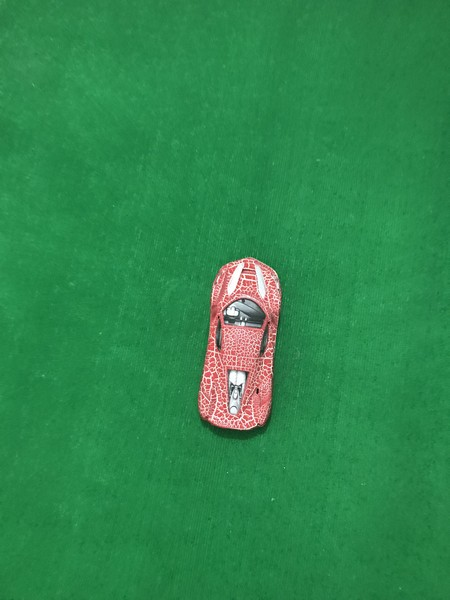RC: (196, 254, 284, 438)
